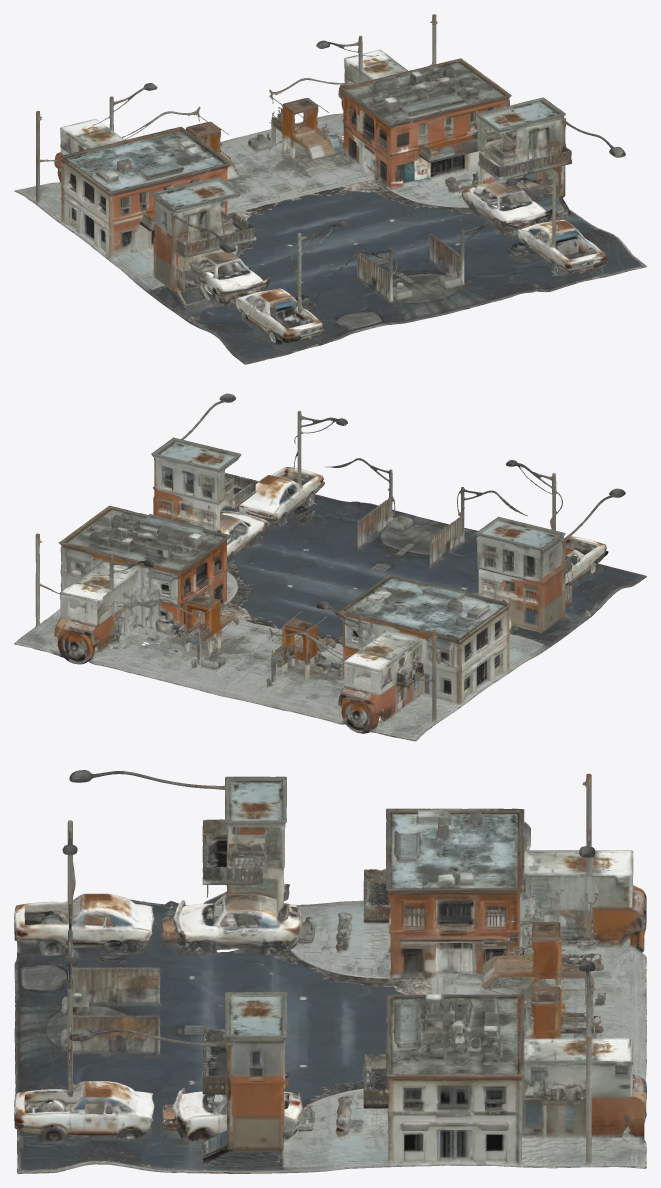
File: city_block_one.glb
3 renders of one model, top to bottom at view 1: azimuth 30°, elevation 25°; view 2: azimuth 150°, elevation 25°; view 3: azimuth 270°, elevation 25°, orthographic. The views are drawn at different scales.
Parts seen in each view (by area): view 1: Mesh1.0; view 2: Mesh1.0; view 3: Mesh1.0.
Boxes of the visible parts, x1,y1,x2,y2 form: Mesh1.0: (14,14,646,364); Mesh1.0: (14,393,646,741); Mesh1.0: (14,770,646,1173).
Size of the model in its own units: 1.91 by 0.4835 by 1.91.
Materials: 1 (1 with a texture image).
